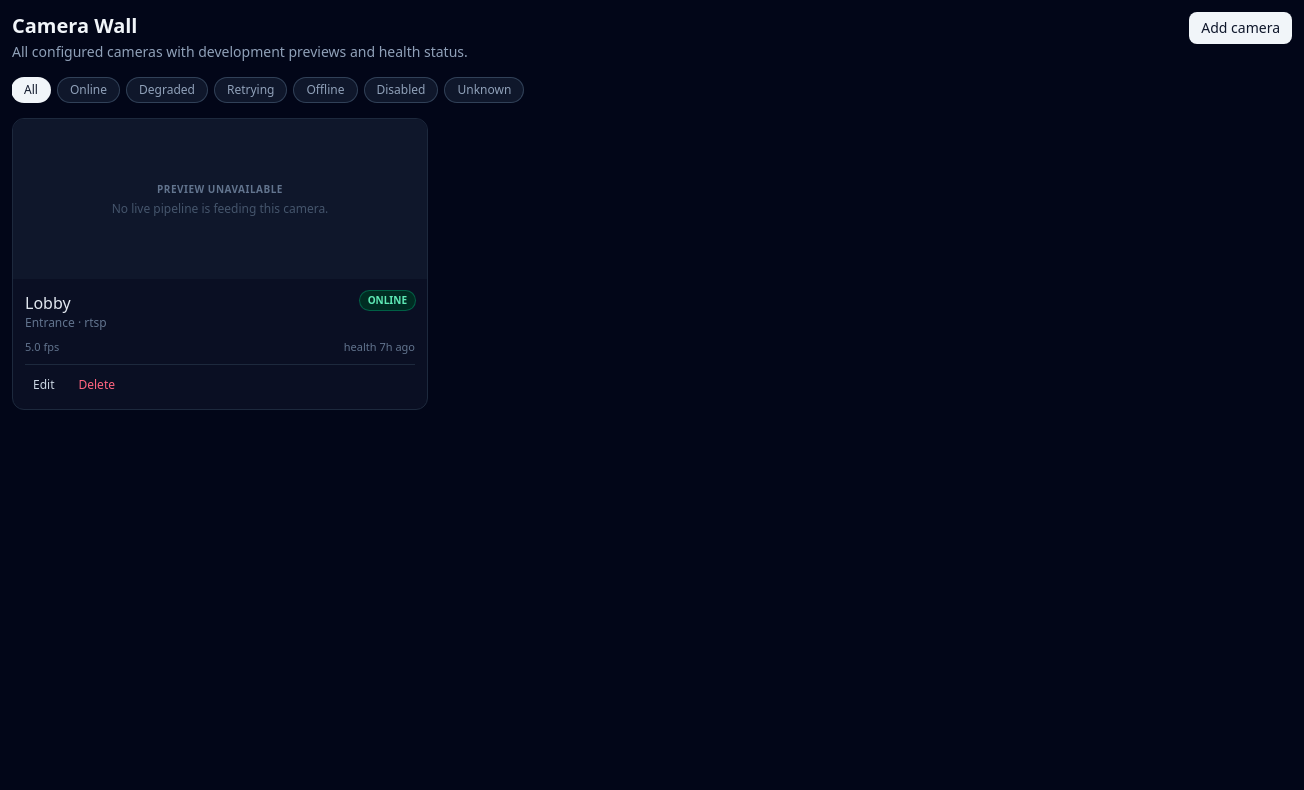
Test case: admin can open the add-camera form and create a camera
Click the button with test id "add-camera".
click(1241, 28)  # box [1189,12,1292,44]
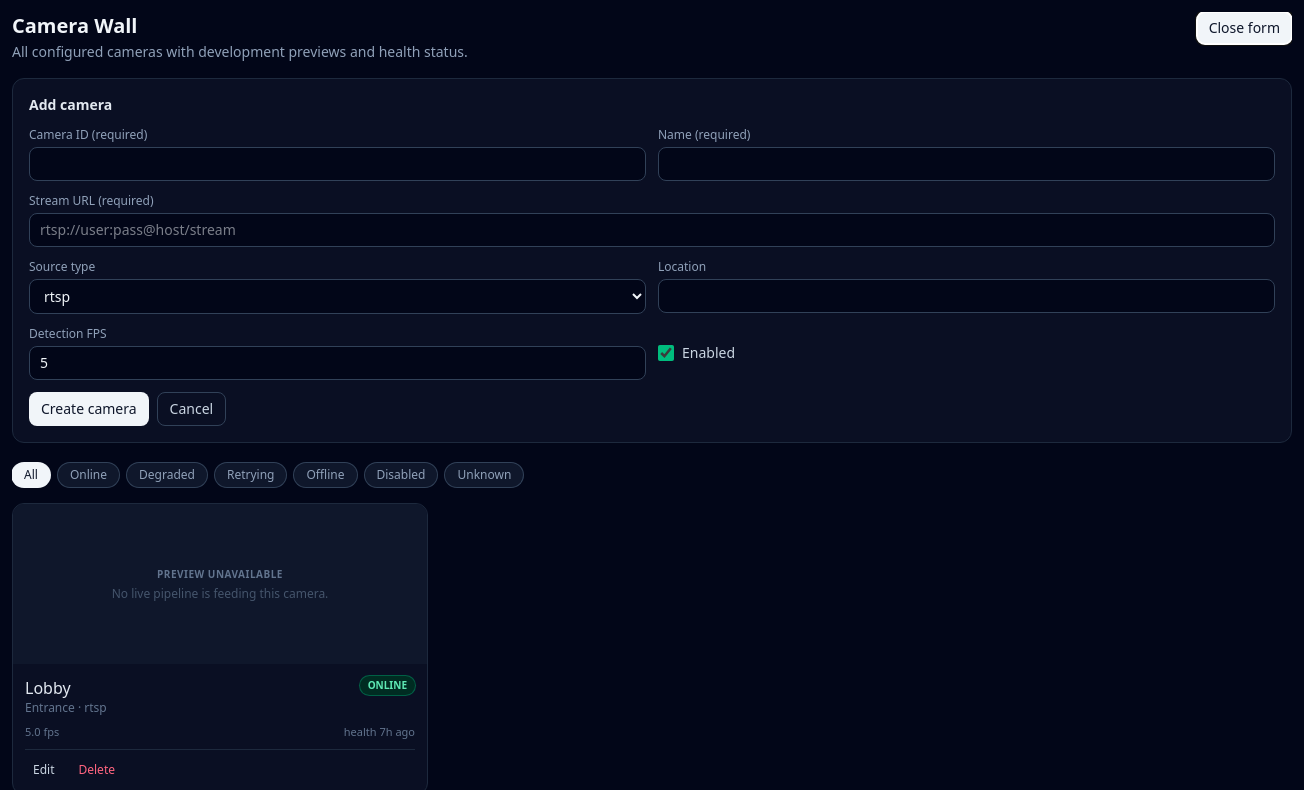
Now the form with test id "camera-form" is shown, box [12,78,1292,443]
Type "cam2" into the field with test id "camera-form-id".
click(338, 164); type("cam2")  # box [29,147,646,181]
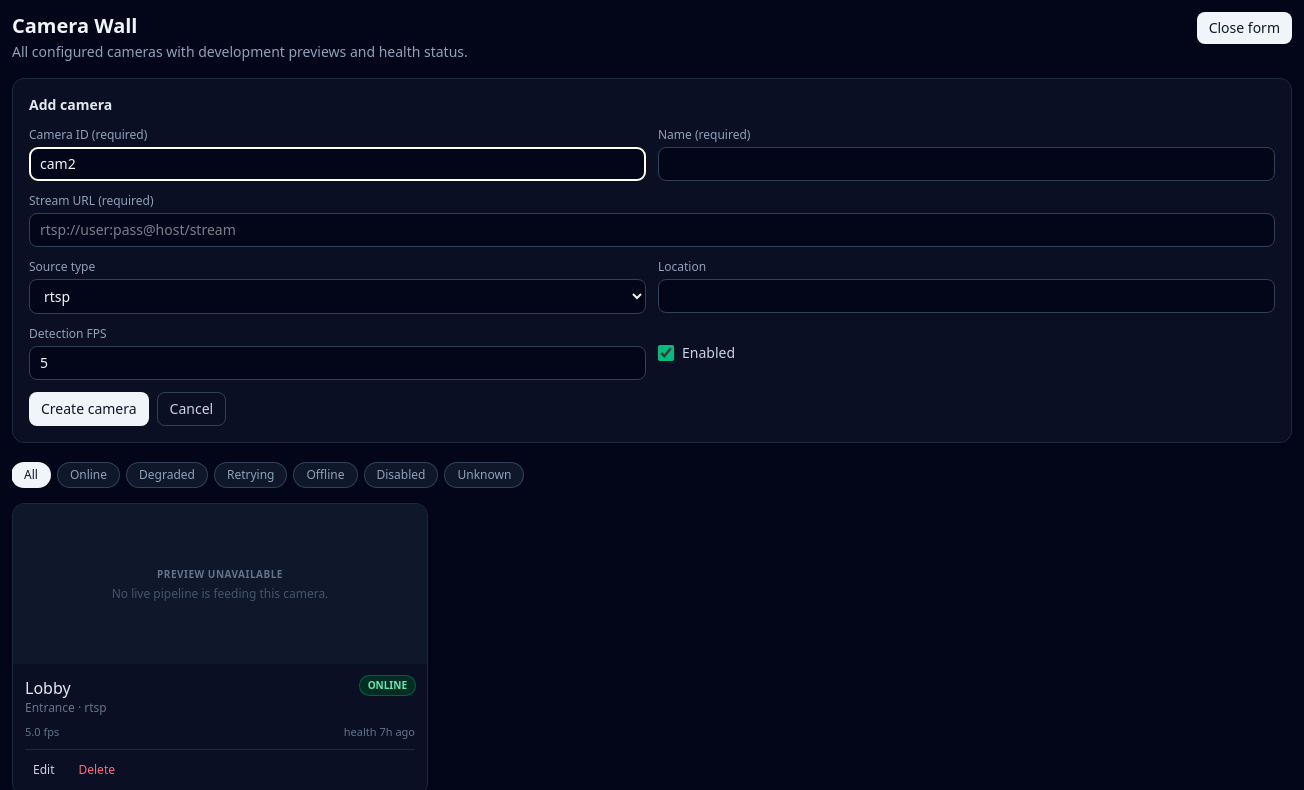
Type "Dock" into the field with test id "camera-form-name".
click(966, 164); type("Dock")  # box [658,147,1275,181]
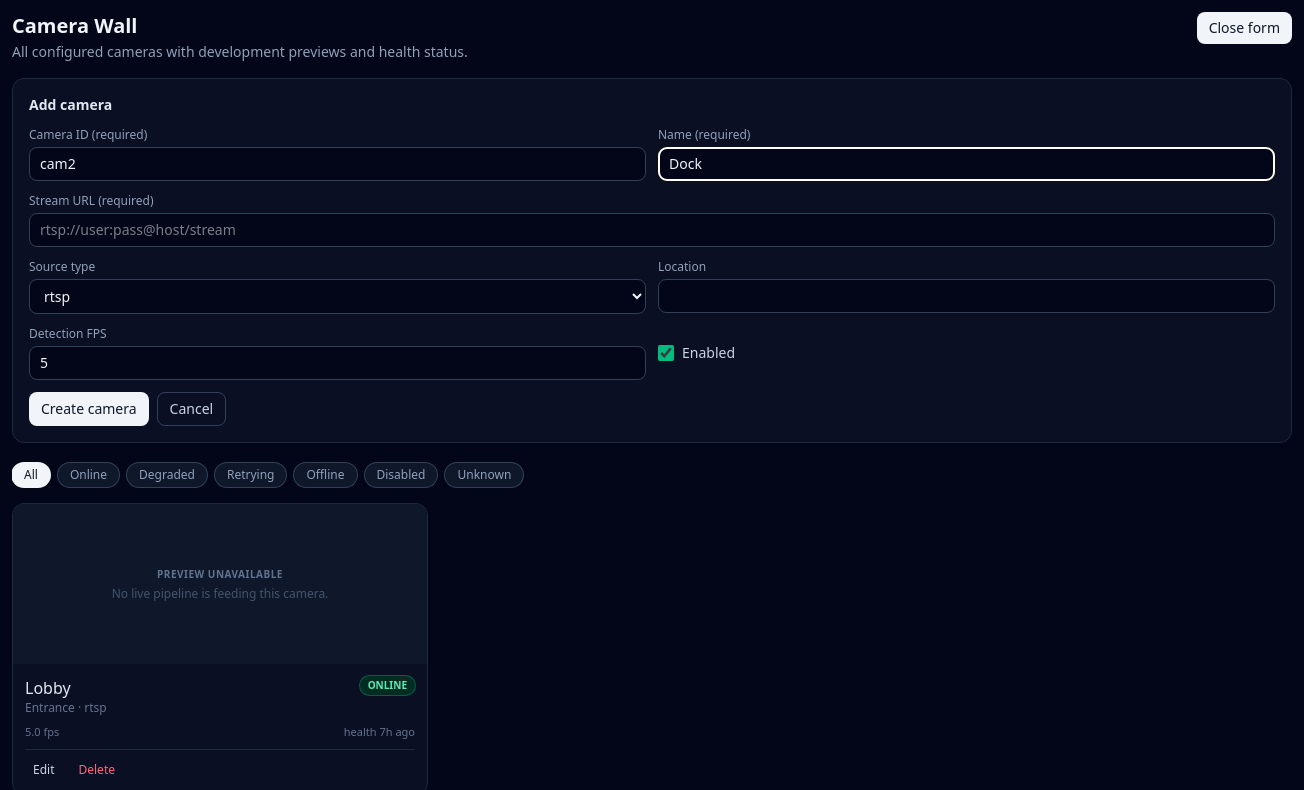
Type "rtsp://example/dock" into the field with test id "camera-form-url".
click(652, 230); type("rtsp://example/dock")  # box [29,213,1275,247]
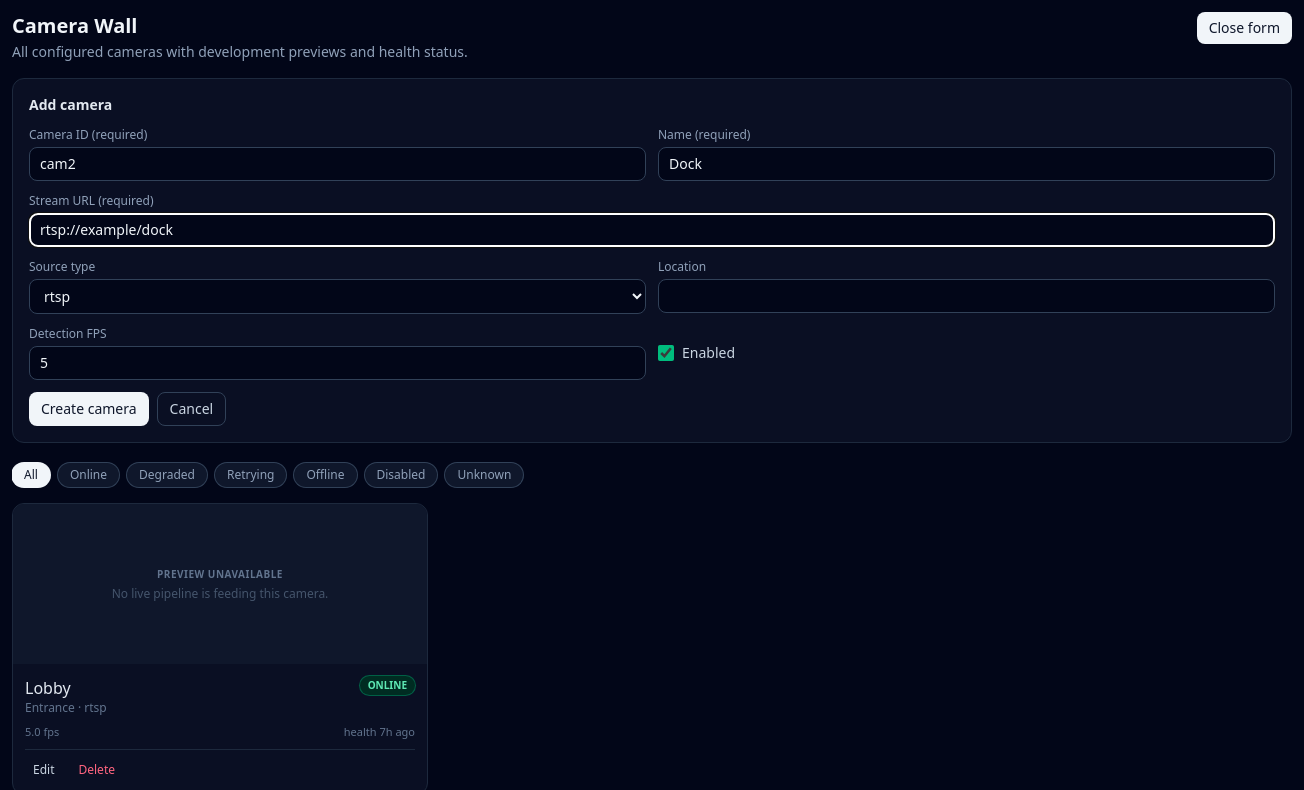
Click the button with test id "camera-form-submit".
click(89, 409)  # box [29,392,149,426]
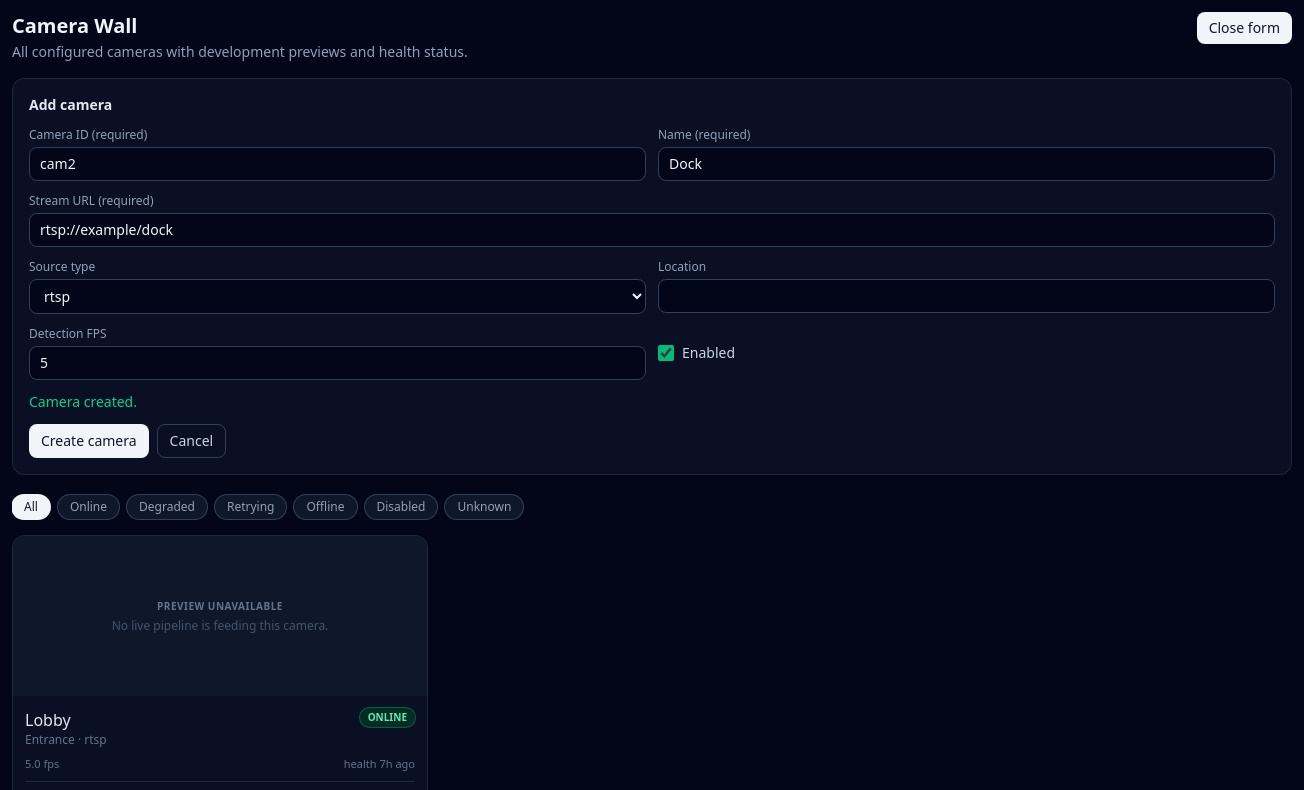
Now the text "Camera created." is shown, box [29,392,137,411]
